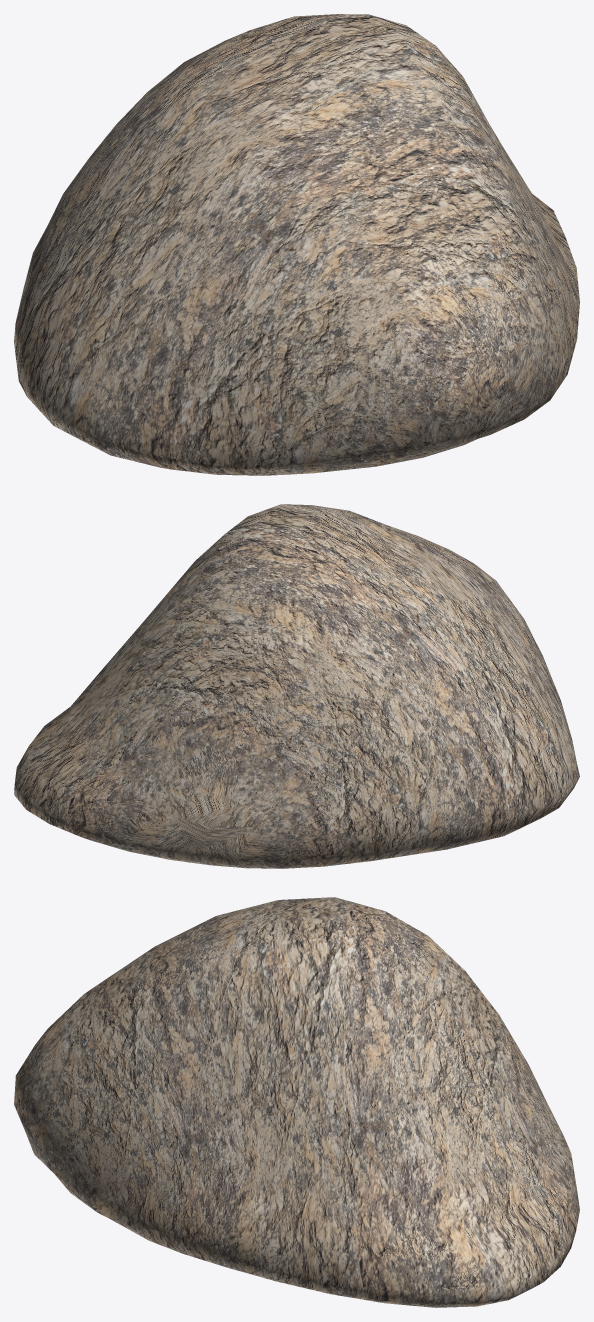
File: rock_v002.fbx
3 views of the same model, one above another, from view 1: azimuth 30°, elevation 25°; view 2: azimuth 150°, elevation 25°; view 3: azimuth 270°, elevation 25° (orthographic). The views are drawn at different scales.
Parts seen in each view (by area): view 1: pCube1; view 2: pCube1; view 3: pCube1.
Part boxes in pixels (left/top/right/bottom): pCube1: left=14, top=14, right=579, bottom=475; pCube1: left=14, top=504, right=579, bottom=868; pCube1: left=14, top=897, right=579, bottom=1307.
Bounding box in the file's own units: 6.76 × 3.9 × 6.65.
